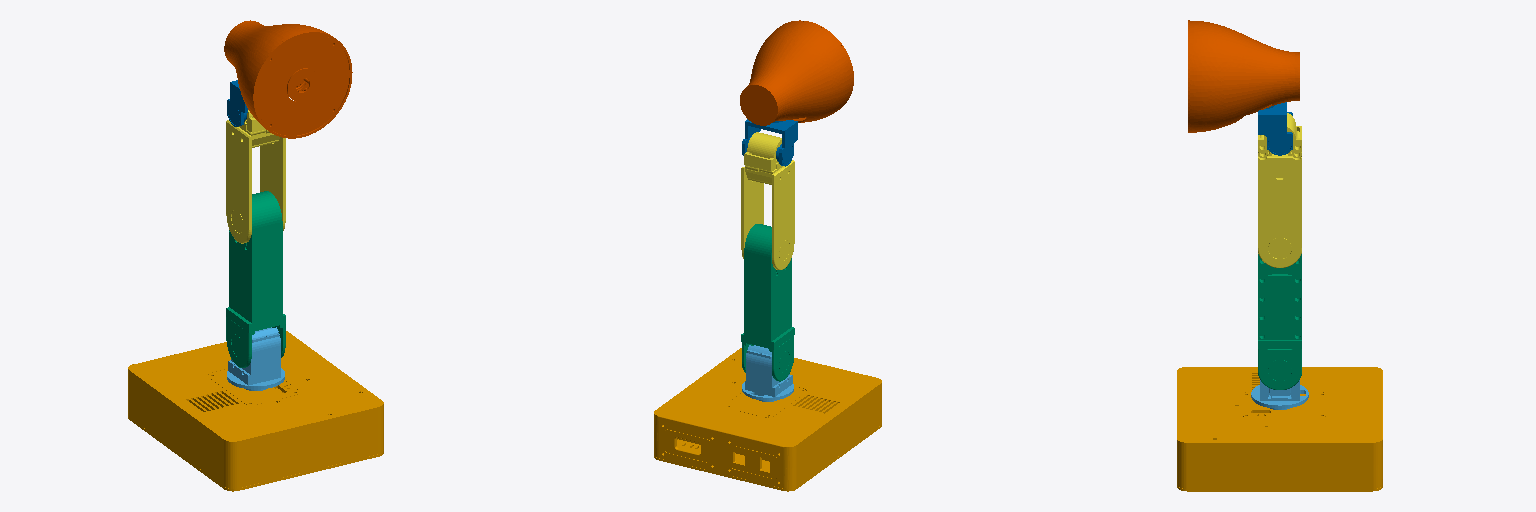
The robot description file, URDF, robot "orion_v2":
<?xml version='1.0' encoding='utf-8'?>
<robot name="orion_v2">
  <link name="v21_base">
    <visual name="v21_0">
      <origin xyz="0.0 0.0 0.0" rpy="0 0 0" />
      <geometry>
        <mesh filename="../../simulation/mujoco/v2/meshes/v21_01_Base_shell.stl" />
      </geometry>
    </visual>
    <visual name="v21_2">
      <origin xyz="0.0 0.0 0.0" rpy="0 0 0" />
      <geometry>
        <mesh filename="../../simulation/mujoco/v2/meshes/v21_03_Electronics_tray.stl" />
      </geometry>
    </visual>
    <visual name="v21_3">
      <origin xyz="0.0 0.0 0.0" rpy="0 0 0" />
      <geometry>
        <mesh filename="../../simulation/mujoco/v2/meshes/v21_05_Power_inlet_panel.stl" />
      </geometry>
    </visual>
    <visual name="v21_4">
      <origin xyz="0.0 0.0 0.0" rpy="0 0 0" />
      <geometry>
        <mesh filename="../../simulation/mujoco/v2/meshes/v21_06_Ethernet_and_USB_panel.stl" />
      </geometry>
    </visual>
    <visual name="v21_6">
      <origin xyz="0.0 0.0 0.0" rpy="0 0 0" />
      <geometry>
        <mesh filename="../../simulation/mujoco/v2/meshes/v21_04b_Servo_retaining_frame.stl" />
      </geometry>
    </visual>
    <visual name="v21_7">
      <origin xyz="0.0 0.0 0.0" rpy="0 0 0" />
      <geometry>
        <mesh filename="../../simulation/mujoco/v2/meshes/v21_02_Bottom_cover.stl" />
      </geometry>
    </visual>
    <visual name="v21_11">
      <origin xyz="0.0 0.0 0.0" rpy="0 0 0" />
      <geometry>
        <mesh filename="../../simulation/mujoco/v2/meshes/v21_04_Yaw_servo_carrier.stl" />
      </geometry>
    </visual>
    <inertial>
      <origin xyz="0.0005275892632188866 0.002492804132918842 0.029951699678330147" rpy="0 0 0" />
      <mass value="0.6947885981257919" />
      <inertia ixx="0.004152003694644456" iyy="0.003209637497721632" izz="0.006596094987473318" ixy="-9.606526022039426e-06" ixz="-7.410274589255229e-06" iyz="-1.2223327535876776e-05" />
    </inertial>
  </link>
  <link name="v21_base_yaw_link">
    <visual name="v21_5">
      <origin xyz="-0.0 -0.0 -0.07" rpy="0 0 0" />
      <geometry>
        <mesh filename="../../simulation/mujoco/v2/meshes/v21_09_Shoulder_service_cover_1.stl" />
      </geometry>
    </visual>
    <visual name="v21_18">
      <origin xyz="-0.0 -0.0 -0.07" rpy="0 0 0" />
      <geometry>
        <mesh filename="../../simulation/mujoco/v2/meshes/v21_07_Yaw_horn_adapter_1.stl" />
      </geometry>
    </visual>
    <visual name="v21_20">
      <origin xyz="-0.0 -0.0 -0.07" rpy="0 0 0" />
      <geometry>
        <mesh filename="../../simulation/mujoco/v2/meshes/v21_08_Shoulder_pitch_housing_1.stl" />
      </geometry>
    </visual>
    <visual name="v21_29">
      <origin xyz="0.0 0.0 -0.07" rpy="0 0 0" />
      <geometry>
        <mesh filename="../../simulation/mujoco/v2/meshes/common_REF_Shoulder_Feetech_STS3215_-_V1_CAD_1.stl" />
      </geometry>
    </visual>
    <inertial>
      <origin xyz="-0.00027937867087692334 -9.814873935977057e-05 0.03581569279787336" rpy="0 0 0" />
      <mass value="0.1371237843561927" />
      <inertia ixx="6.398285882003494e-05" iyy="6.155639055333263e-05" izz="4.0573892052279666e-05" ixy="3.760426040265449e-09" ixz="-6.965294126243232e-07" iyz="-3.2052336243196926e-07" />
    </inertial>
  </link>
  <joint name="base_yaw_joint" type="revolute">
    <parent link="v21_base" />
    <child link="v21_base_yaw_link" />
    <origin xyz="0.0 0.0 0.060000000000000005" rpy="0 0 0" />
    <axis xyz="0 0 -1" />
    <limit lower="-1.5707963267948966" upper="1.5707963267948966" effort="0" velocity="0" />
  </joint>
  <link name="v21_shoulder_pitch_link">
    <visual name="v21_1">
      <origin xyz="-0.0 -0.0 -0.123" rpy="0 0 0" />
      <geometry>
        <mesh filename="../../simulation/mujoco/v2/meshes/v21_10_lower_straight_bridge.stl" />
      </geometry>
    </visual>
    <visual name="v21_17">
      <origin xyz="-0.0 -0.0 -0.123" rpy="0 0 0" />
      <geometry>
        <mesh filename="../../simulation/mujoco/v2/meshes/v21_22_shoulder_flush_horn_caps.stl" />
      </geometry>
    </visual>
    <visual name="v21_22">
      <origin xyz="0.0 0.0 -0.123" rpy="0 0 0" />
      <geometry>
        <mesh filename="../../simulation/mujoco/v2/meshes/common_REF_Elbow_Feetech_STS3215_-_V1_CAD_1.stl" />
      </geometry>
    </visual>
    <visual name="v21_24">
      <origin xyz="0.0 0.0 -0.123" rpy="0 0 0" />
      <geometry>
        <mesh filename="../../simulation/mujoco/v2/meshes/common_REF_Shoulder_horns_-_rotating_with_lower_arm_1.stl" />
      </geometry>
    </visual>
    <inertial>
      <origin xyz="0.0001027393582969521 1.775105797327372e-07 0.0943820574613771" rpy="0 0 0" />
      <mass value="0.22047429579639194" />
      <inertia ixx="0.0006913686284598785" iyy="0.0006818872745762026" izz="8.984139765137122e-05" ixy="1.5085457399119755e-11" ixz="-1.9863348046637206e-06" iyz="3.6819484701147255e-09" />
    </inertial>
  </link>
  <joint name="shoulder_pitch_joint" type="revolute">
    <parent link="v21_base_yaw_link" />
    <child link="v21_shoulder_pitch_link" />
    <origin xyz="0.0 0.0 0.05299999999999999" rpy="0 0 0" />
    <axis xyz="1 0 0" />
    <limit lower="-1.5707963267948966" upper="1.5707963267948966" effort="0" velocity="0" />
  </joint>
  <link name="v21_elbow_pitch_link">
    <visual name="v21_10">
      <origin xyz="-0.0 -0.0 -0.273" rpy="0 0 0" />
      <geometry>
        <mesh filename="../../simulation/mujoco/v2/meshes/v21_22_elbow_flush_horn_caps.stl" />
      </geometry>
    </visual>
    <visual name="v21_14">
      <origin xyz="-0.0 -0.0 -0.273" rpy="0 0 0" />
      <geometry>
        <mesh filename="../../simulation/mujoco/v2/meshes/v21_13_Upper_arm_-_111_mm_pitch_span.stl" />
      </geometry>
    </visual>
    <visual name="v21_26">
      <origin xyz="0.0 0.0 -0.253" rpy="0 0 0" />
      <geometry>
        <mesh filename="../../simulation/mujoco/v2/meshes/common_REF_Wrist_pitch_STS3215_-_supplier_geometry.stl" />
      </geometry>
    </visual>
    <visual name="v21_30">
      <origin xyz="0.0 0.0 -0.273" rpy="0 0 0" />
      <geometry>
        <mesh filename="../../simulation/mujoco/v2/meshes/common_REF_Elbow_horns_-_rotating_with_upper_arm_1.stl" />
      </geometry>
    </visual>
    <inertial>
      <origin xyz="5.498822803899592e-05 3.9842554842618e-07 0.08752514705954868" rpy="0 0 0" />
      <mass value="0.17659699753478608" />
      <inertia ixx="0.00041348199254514166" iyy="0.000429122957593374" izz="6.759141955828164e-05" ixy="1.4353766909343406e-11" ixz="-1.5743839917501853e-06" iyz="1.6599736570266405e-09" />
    </inertial>
  </link>
  <joint name="elbow_pitch_joint" type="revolute">
    <parent link="v21_shoulder_pitch_link" />
    <child link="v21_elbow_pitch_link" />
    <origin xyz="0.0 0.0 0.15000000000000002" rpy="0 0 0" />
    <axis xyz="1 0 0" />
    <limit lower="-2.705260340591211" upper="2.705260340591211" effort="0" velocity="0" />
  </joint>
  <link name="v21_wrist_pitch_link">
    <visual name="v21_13">
      <origin xyz="-0.0 -0.0 -0.404" rpy="0 0 0" />
      <geometry>
        <mesh filename="../../simulation/mujoco/v2/meshes/v21_22_Wrist_pitch_flush_caps.stl" />
      </geometry>
    </visual>
    <visual name="v21_15">
      <origin xyz="-0.0 -0.0 -0.404" rpy="0 0 0" />
      <geometry>
        <mesh filename="../../simulation/mujoco/v2/meshes/v21_16_Pitch_fork_and_fixed_swivel_post.stl" />
      </geometry>
    </visual>
    <visual name="v21_25">
      <origin xyz="0.0 0.0 -0.384" rpy="0 0 0" />
      <geometry>
        <mesh filename="../../simulation/mujoco/v2/meshes/common_REF_Fixed_neck_swivel_horn_-_supplier_geometry.stl" />
      </geometry>
    </visual>
    <visual name="v21_27">
      <origin xyz="0.0 0.0 -0.384" rpy="0 0 0" />
      <geometry>
        <mesh filename="../../simulation/mujoco/v2/meshes/common_REF_Wrist_pitch_horns_-_supplier_geometry.stl" />
      </geometry>
    </visual>
    <inertial>
      <origin xyz="-4.7410191747457615e-05 -0.007809009277039256 0.02361771036186182" rpy="0 0 0" />
      <mass value="0.05054645843235149" />
      <inertia ixx="2.7294194380512073e-05" iyy="3.6040858304222604e-05" izz="1.9610700131163098e-05" ixy="1.9396675193807425e-08" ixz="-5.862196805992195e-08" iyz="7.031601862819722e-06" />
    </inertial>
  </link>
  <joint name="head_pitch_joint" type="revolute">
    <parent link="v21_elbow_pitch_link" />
    <child link="v21_wrist_pitch_link" />
    <origin xyz="0.0 0.0 0.131" rpy="0 0 0" />
    <axis xyz="1 0 0" />
    <limit lower="-1.5707963267948966" upper="1.5707963267948966" effort="0" velocity="0" />
  </joint>
  <link name="v21_neck_swivel_link">
    <visual name="v21_8">
      <origin xyz="-0.0 0.0175 -0.453" rpy="0 0 0" />
      <geometry>
        <mesh filename="../../simulation/mujoco/v2/meshes/v21_19_Serviceable_gradual_bell_shell.stl" />
      </geometry>
    </visual>
    <visual name="v21_9">
      <origin xyz="-0.0 0.0175 -0.453" rpy="0 0 0" />
      <geometry>
        <mesh filename="../../simulation/mujoco/v2/meshes/v21_20_Removable_front_camera_speaker_cassette.stl" />
      </geometry>
    </visual>
    <visual name="v21_12">
      <origin xyz="-0.0 0.0175 -0.453" rpy="0 0 0" />
      <geometry>
        <mesh filename="../../simulation/mujoco/v2/meshes/v21_18_Swivel_cartridge_front_retainer.stl" />
      </geometry>
    </visual>
    <visual name="v21_16">
      <origin xyz="-0.0 0.0175 -0.453" rpy="0 0 0" />
      <geometry>
        <mesh filename="../../simulation/mujoco/v2/meshes/v21_17_Removable_swivel_servo_cartridge.stl" />
      </geometry>
    </visual>
    <visual name="v21_19">
      <origin xyz="-0.0 0.0175 -0.453" rpy="0 0 0" />
      <geometry>
        <mesh filename="../../simulation/mujoco/v2/meshes/v21_24_Removable_LED_retaining_ring.stl" />
      </geometry>
    </visual>
    <visual name="v21_21">
      <origin xyz="-0.0 0.0175 -0.453" rpy="0 0 0" />
      <geometry>
        <mesh filename="../../simulation/mujoco/v2/meshes/v21_21_Removable_annular_diffuser.stl" />
      </geometry>
    </visual>
    <visual name="v21_23">
      <origin xyz="0.0 0.0175 -0.433" rpy="0 0 0" />
      <geometry>
        <mesh filename="../../simulation/mujoco/v2/meshes/common_REF_Head_swivel_STS3215_-_supplier_geometry.stl" />
      </geometry>
    </visual>
    <visual name="v21_28">
      <origin xyz="0.0 0.0175 -0.433" rpy="0 0 0" />
      <geometry>
        <mesh filename="../../simulation/mujoco/v2/meshes/common_REF_Pi_Camera_Module_3_Wide_-_official_CAD.obj" />
      </geometry>
    </visual>
    <visual name="v21_31">
      <origin xyz="0.0 0.0175 -0.433" rpy="0 0 0" />
      <geometry>
        <mesh filename="../../simulation/mujoco/v2/meshes/common_REF_LED_Adafruit_2863_-_reconstructed_from_specifications.stl" />
      </geometry>
    </visual>
    <visual name="v21_32">
      <origin xyz="0.0 0.0175 -0.433" rpy="0 0 0" />
      <geometry>
        <mesh filename="../../simulation/mujoco/v2/meshes/common_REF_Speaker_-_V1_63x24_adapted_supplier_CAD.stl" />
      </geometry>
    </visual>
    <inertial>
      <origin xyz="-4.377315539681308e-05 -0.03902162685249138 0.02085453717818393" rpy="0 0 0" />
      <mass value="0.29925124595845126" />
      <inertia ixx="0.000480940372751178" iyy="0.00034629170794786557" izz="0.0005082902884695034" ixy="1.956797464232746e-07" ixz="-2.432235430569997e-07" iyz="-6.5008799991696114e-06" />
    </inertial>
  </link>
  <joint name="head_roll_joint" type="revolute">
    <parent link="v21_wrist_pitch_link" />
    <child link="v21_neck_swivel_link" />
    <origin xyz="0.0 -0.0175 0.04899999999999999" rpy="0 0 0" />
    <axis xyz="0 0 -1" />
    <limit lower="-1.5707963267948966" upper="1.5707963267948966" effort="0" velocity="0" />
  </joint>
</robot>

--- What the picture shows (computed from the rendered views, not written in the file) ---
The picture shows the robot from 3 angles, left to right: view 1: azimuth 30°, elevation 25°; view 2: azimuth 150°, elevation 25°; view 3: azimuth 270°, elevation 25°; orthographic projection.
Robot: orion_v2 — 6 links, 5 joints (5 revolute); root link v21_base; default pose: every joint at zero.
Visible links, largest first — view 1: v21_base, v21_neck_swivel_link, v21_shoulder_pitch_link, v21_elbow_pitch_link, v21_base_yaw_link, v21_wrist_pitch_link; view 2: v21_base, v21_neck_swivel_link, v21_shoulder_pitch_link, v21_elbow_pitch_link, v21_base_yaw_link, v21_wrist_pitch_link; view 3: v21_base, v21_neck_swivel_link, v21_elbow_pitch_link, v21_shoulder_pitch_link, v21_wrist_pitch_link, v21_base_yaw_link.
Link boxes in pixels (bbox=[...]): v21_base: bbox=[128, 331, 383, 491]; v21_neck_swivel_link: bbox=[224, 20, 352, 138]; v21_shoulder_pitch_link: bbox=[226, 191, 285, 367]; v21_elbow_pitch_link: bbox=[226, 110, 285, 243]; v21_base_yaw_link: bbox=[227, 327, 284, 390]; v21_wrist_pitch_link: bbox=[227, 80, 247, 126]; v21_base: bbox=[654, 348, 881, 491]; v21_neck_swivel_link: bbox=[740, 20, 853, 125]; v21_shoulder_pitch_link: bbox=[741, 224, 794, 381]; v21_elbow_pitch_link: bbox=[741, 132, 794, 269]; v21_base_yaw_link: bbox=[742, 345, 793, 401]; v21_wrist_pitch_link: bbox=[742, 119, 797, 166]; v21_base: bbox=[1177, 367, 1382, 491]; v21_neck_swivel_link: bbox=[1188, 20, 1299, 132]; v21_elbow_pitch_link: bbox=[1258, 113, 1301, 267]; v21_shoulder_pitch_link: bbox=[1258, 254, 1301, 389]; v21_wrist_pitch_link: bbox=[1258, 102, 1292, 155]; v21_base_yaw_link: bbox=[1251, 380, 1308, 409].
Bounding box of the posed robot: 0.2 × 0.23 × 0.5255 m (x, y, z).
Meshes: 33 distinct files referenced, 32 mesh visuals loaded (32 binary STL); not drawn: 1 (reference not matched to a file when rendering).
